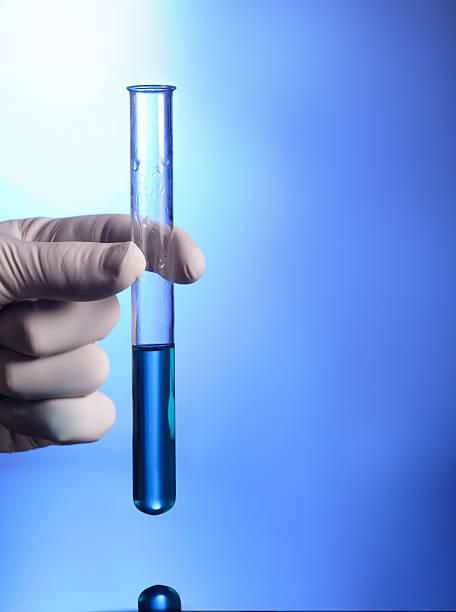Test tube: (121, 79, 178, 513)
